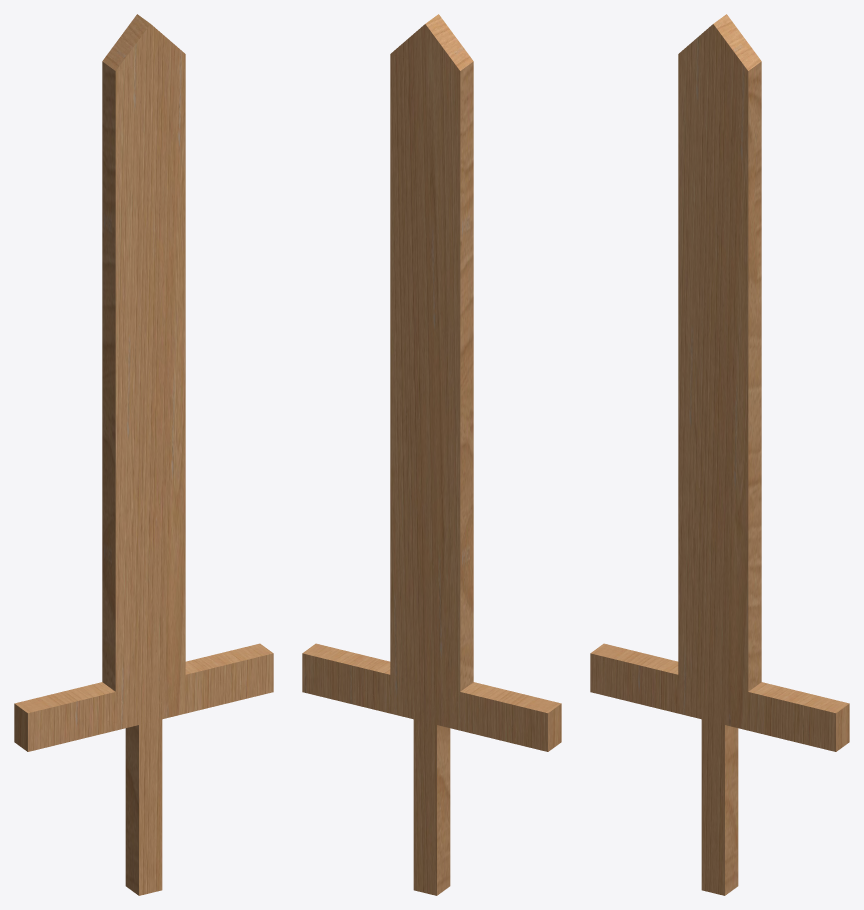
The model's file is Sword.fbx.
3 views of the same model, side by side, from view 1: azimuth 30°, elevation 25°; view 2: azimuth 150°, elevation 25°; view 3: azimuth 330°, elevation 25° (orthographic).
Parts seen in each view (by area): view 1: Cube; view 2: Cube; view 3: Cube.
Part boxes in pixels (x1,y1,x2,y2): Cube: [14, 14, 273, 895]; Cube: [302, 14, 561, 895]; Cube: [590, 14, 849, 895].
Bounding box in the file's own units: 33.15 × 112 × 3.15.
1 material, 1 textured.
